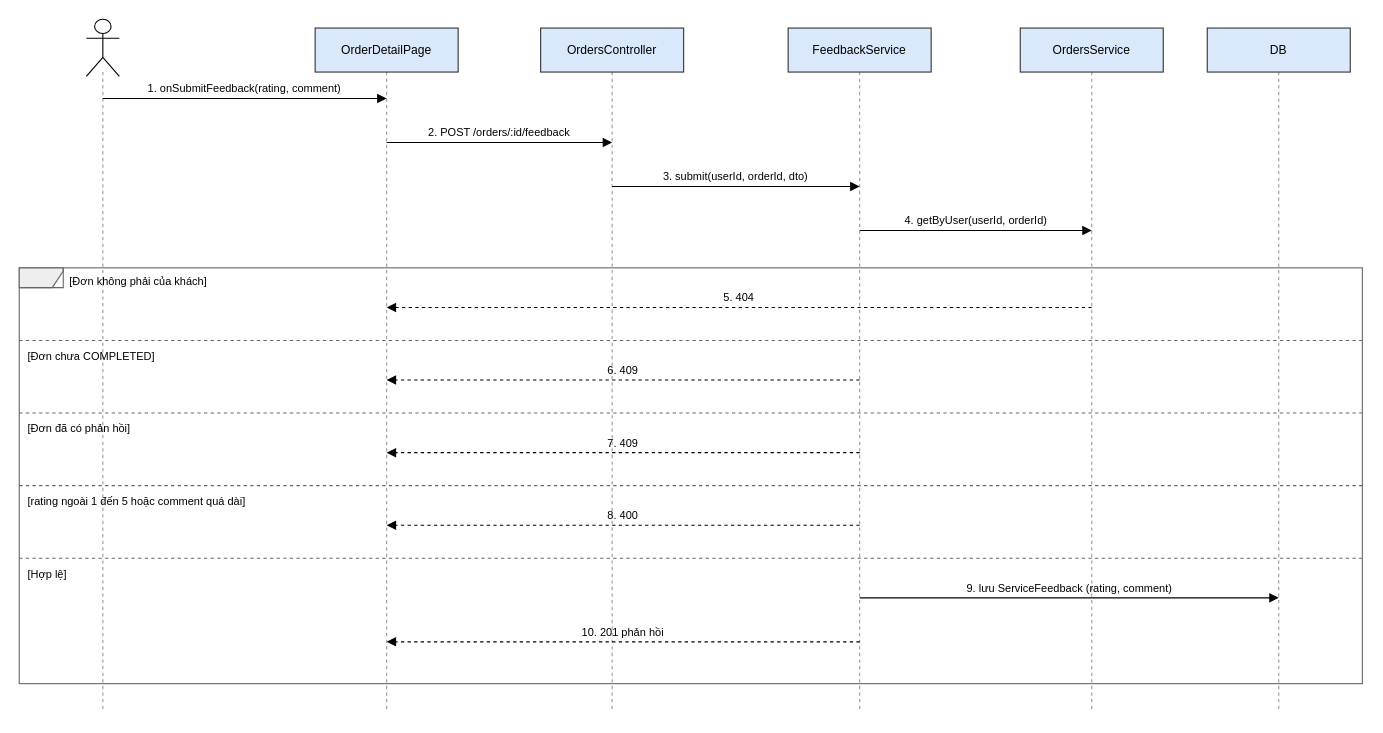
Image size: 1383x733. Some labels were removed from this diagram. The centre of each missing label's shape, as x and y in pixels:
"alt" goes at (40,277).
"Khách hàng" goes at (102,47).
